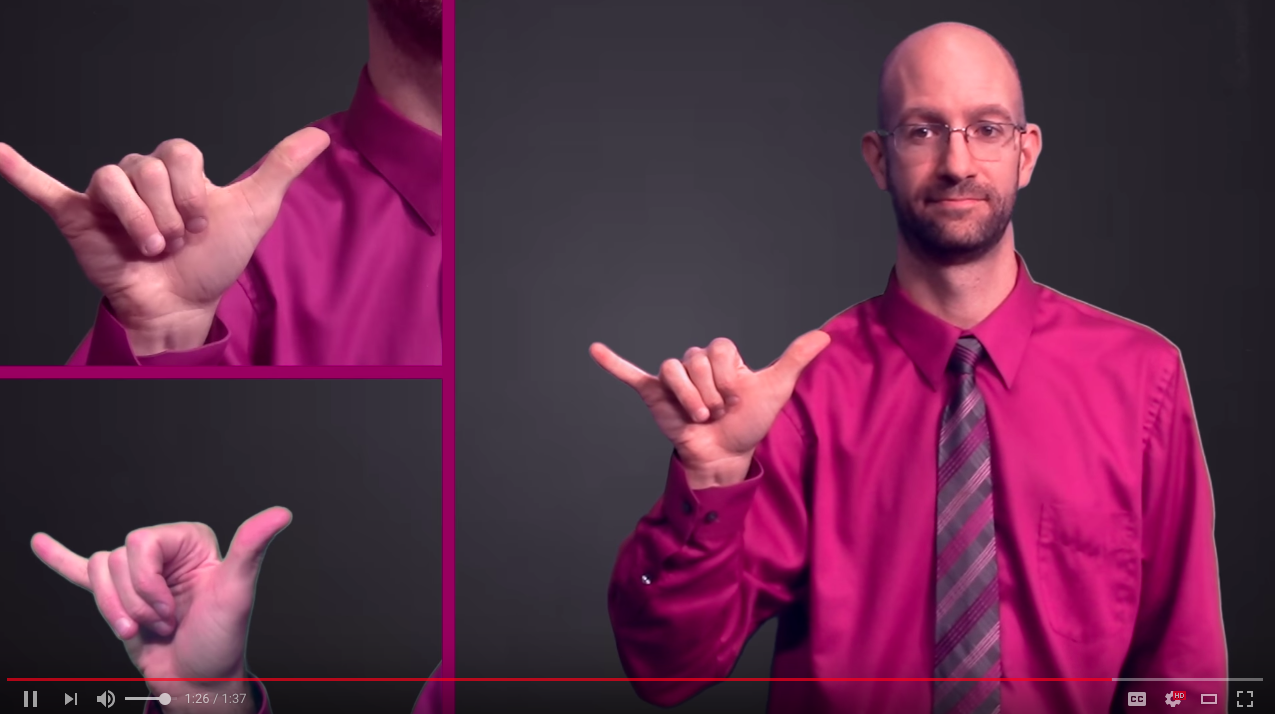y: (1, 122, 333, 352), (16, 494, 305, 678), (581, 326, 845, 470)
